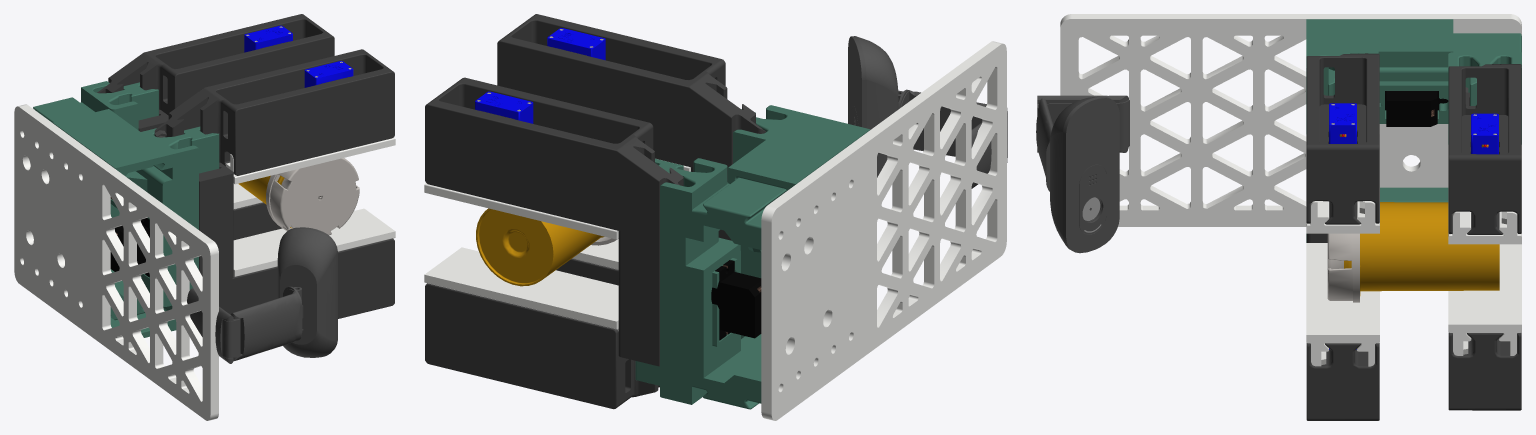
Rendered from tend.glb.
The picture shows the model from 3 angles, left to right: view 1: azimuth 30°, elevation 25°; view 2: azimuth 150°, elevation 25°; view 3: azimuth 270°, elevation 25°; orthographic projection. The views are drawn at different scales.
Parts seen in each view (by area): view 1: Bottom Gripper Rail:1; view 2: Bottom Gripper Rail:1; view 3: Bottom Gripper Rail:1.
Boxes of the visible parts, x1,y1,x2,y2 form: Bottom Gripper Rail:1: [14, 14, 395, 420]; Bottom Gripper Rail:1: [424, 14, 1007, 420]; Bottom Gripper Rail:1: [1036, 14, 1521, 420].
Bounding box in the file's own units: 0.1714 × 0.1357 × 0.2115.
1 material, 1 textured.
